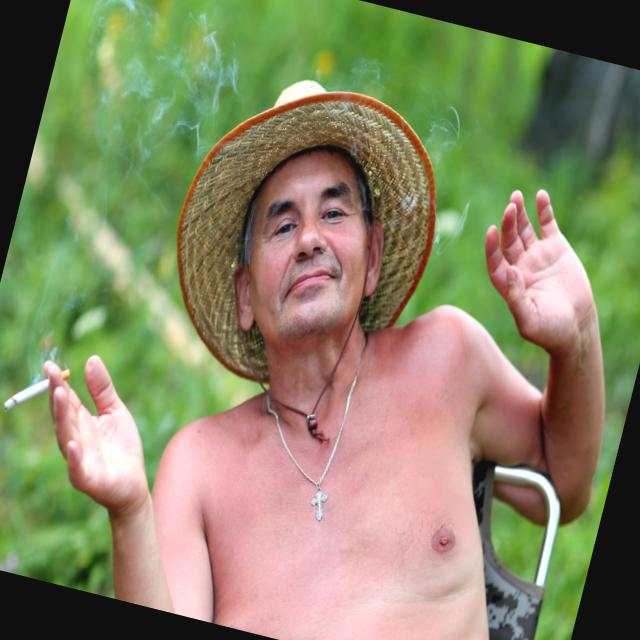cigarette: (0, 352, 75, 430)
